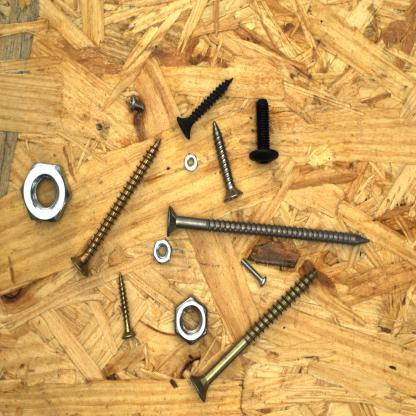screw: (188, 264, 320, 405), (66, 135, 164, 281), (162, 202, 373, 247), (174, 74, 236, 142), (210, 118, 244, 205), (245, 94, 283, 168), (114, 270, 138, 342), (240, 256, 269, 290)
